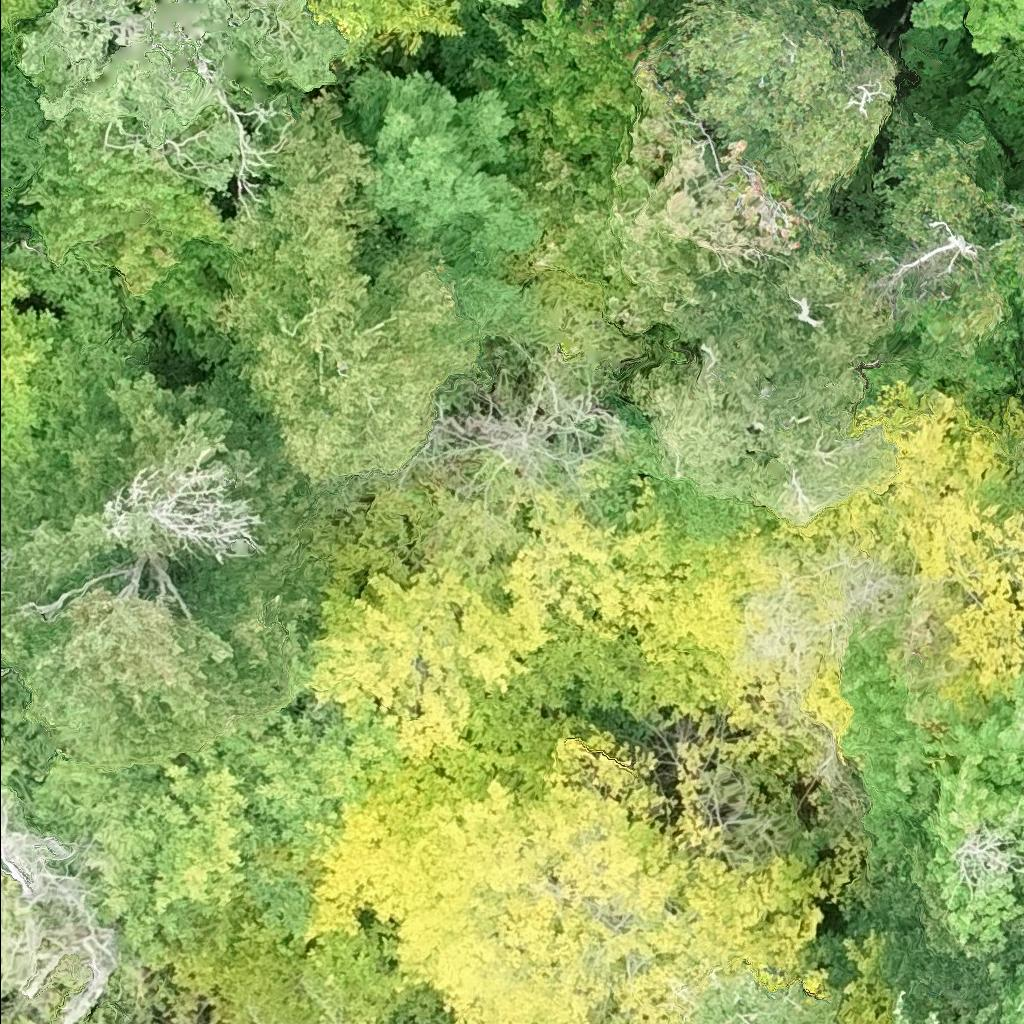crown: (304, 716, 830, 1023), (29, 692, 388, 964), (769, 377, 1023, 719), (502, 471, 824, 727), (566, 37, 804, 332), (629, 267, 893, 524), (302, 555, 542, 765), (666, 0, 898, 198), (344, 60, 545, 261), (465, 0, 655, 207), (326, 682, 563, 837), (914, 676, 1023, 959), (872, 102, 1023, 245), (766, 247, 892, 359), (0, 260, 65, 471), (307, 0, 468, 68), (693, 974, 839, 1023), (908, 0, 1023, 56), (964, 43, 1023, 126), (971, 955, 1023, 1023), (0, 0, 50, 70), (892, 991, 910, 1023), (471, 0, 525, 6), (921, 1009, 939, 1023), (953, 1011, 967, 1023), (161, 1015, 182, 1023), (601, 0, 616, 2), (0, 244, 1, 253)
